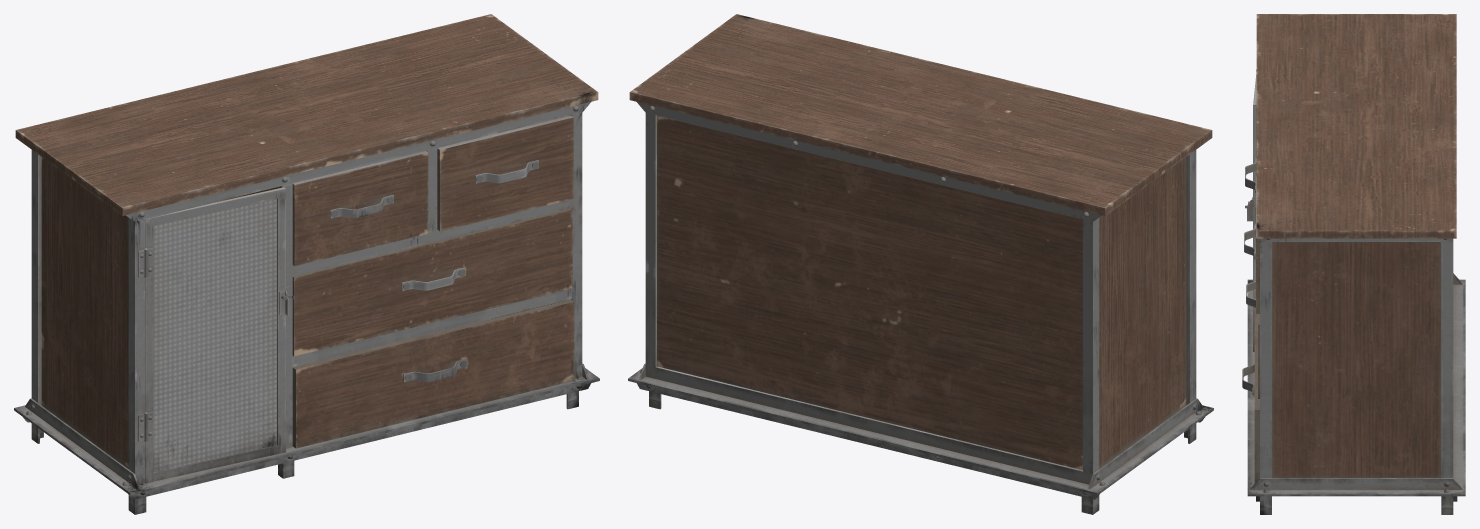
The model's file is WoodenTable_03.gltf.
The picture shows the model from 3 angles, left to right: view 1: azimuth 30°, elevation 25°; view 2: azimuth 150°, elevation 25°; view 3: azimuth 270°, elevation 25°; orthographic projection. The views are drawn at different scales.
Visible parts, largest first — view 1: WoodenTable_03_body, WoodenTable_03_door, WoodenTable_03_drawer04, WoodenTable_03_drawer03, WoodenTable_03_drawer02, WoodenTable_03_drawer01; view 2: WoodenTable_03_body; view 3: WoodenTable_03_body, WoodenTable_03_drawer04, WoodenTable_03_door, WoodenTable_03_drawer02, WoodenTable_03_drawer03.
Part boxes in pixels (x1,y1,x2,y2): WoodenTable_03_body: (14, 14, 599, 514); WoodenTable_03_door: (144, 187, 293, 483); WoodenTable_03_drawer04: (292, 299, 574, 448); WoodenTable_03_drawer03: (292, 209, 572, 356); WoodenTable_03_drawer02: (437, 115, 573, 231); WoodenTable_03_drawer01: (292, 151, 428, 266); WoodenTable_03_body: (628, 14, 1213, 514); WoodenTable_03_body: (1247, 14, 1465, 514); WoodenTable_03_drawer04: (1242, 289, 1259, 483); WoodenTable_03_door: (1245, 69, 1256, 351); WoodenTable_03_drawer02: (1244, 176, 1259, 313); WoodenTable_03_drawer03: (1246, 281, 1259, 398).
Bounding box in the file's own units: 1.33 × 0.8301 × 0.5753.
1 material, 1 textured.
